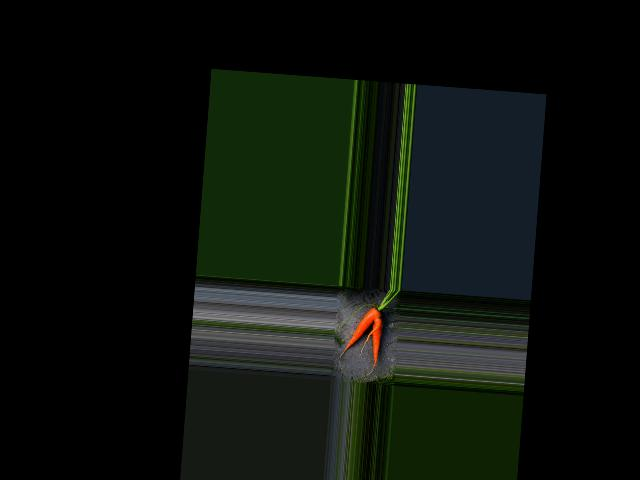carrot: (362, 313, 389, 375)
